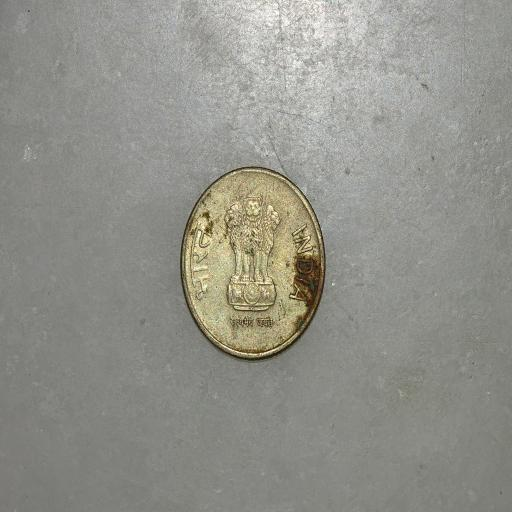rupee5: (171, 168, 327, 368)
